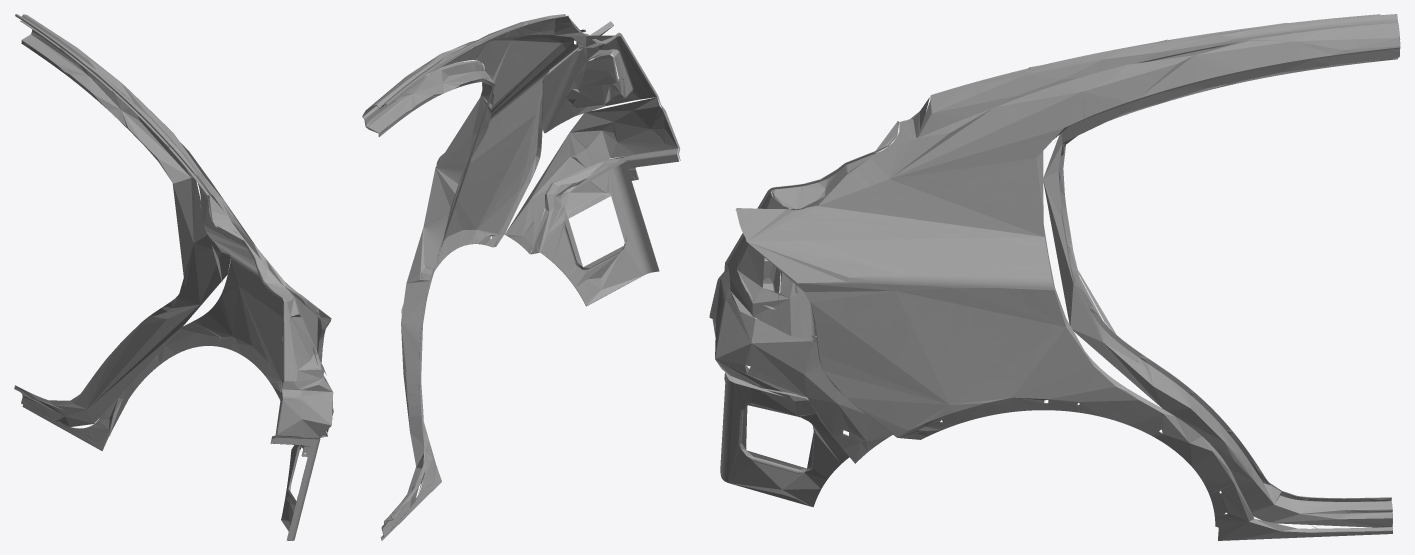
The model's file is bodyPart_fender_rear_c01.glb.
3 views of the same model, side by side, from view 1: azimuth 30°, elevation 25°; view 2: azimuth 150°, elevation 25°; view 3: azimuth 270°, elevation 25° (orthographic). The views are drawn at different scales.
Parts seen in each view (by area): view 1: geometry_0; view 2: geometry_0; view 3: geometry_0.
Boxes of the visible parts, left/top/right/bottom form: geometry_0: left=14, top=14, right=333, bottom=540; geometry_0: left=362, top=14, right=680, bottom=540; geometry_0: left=709, top=14, right=1400, bottom=540.
Bounding box in the file's own units: 0.0889 × 0.3463 × 0.42.
Materials: 1 (1 with a texture image).
